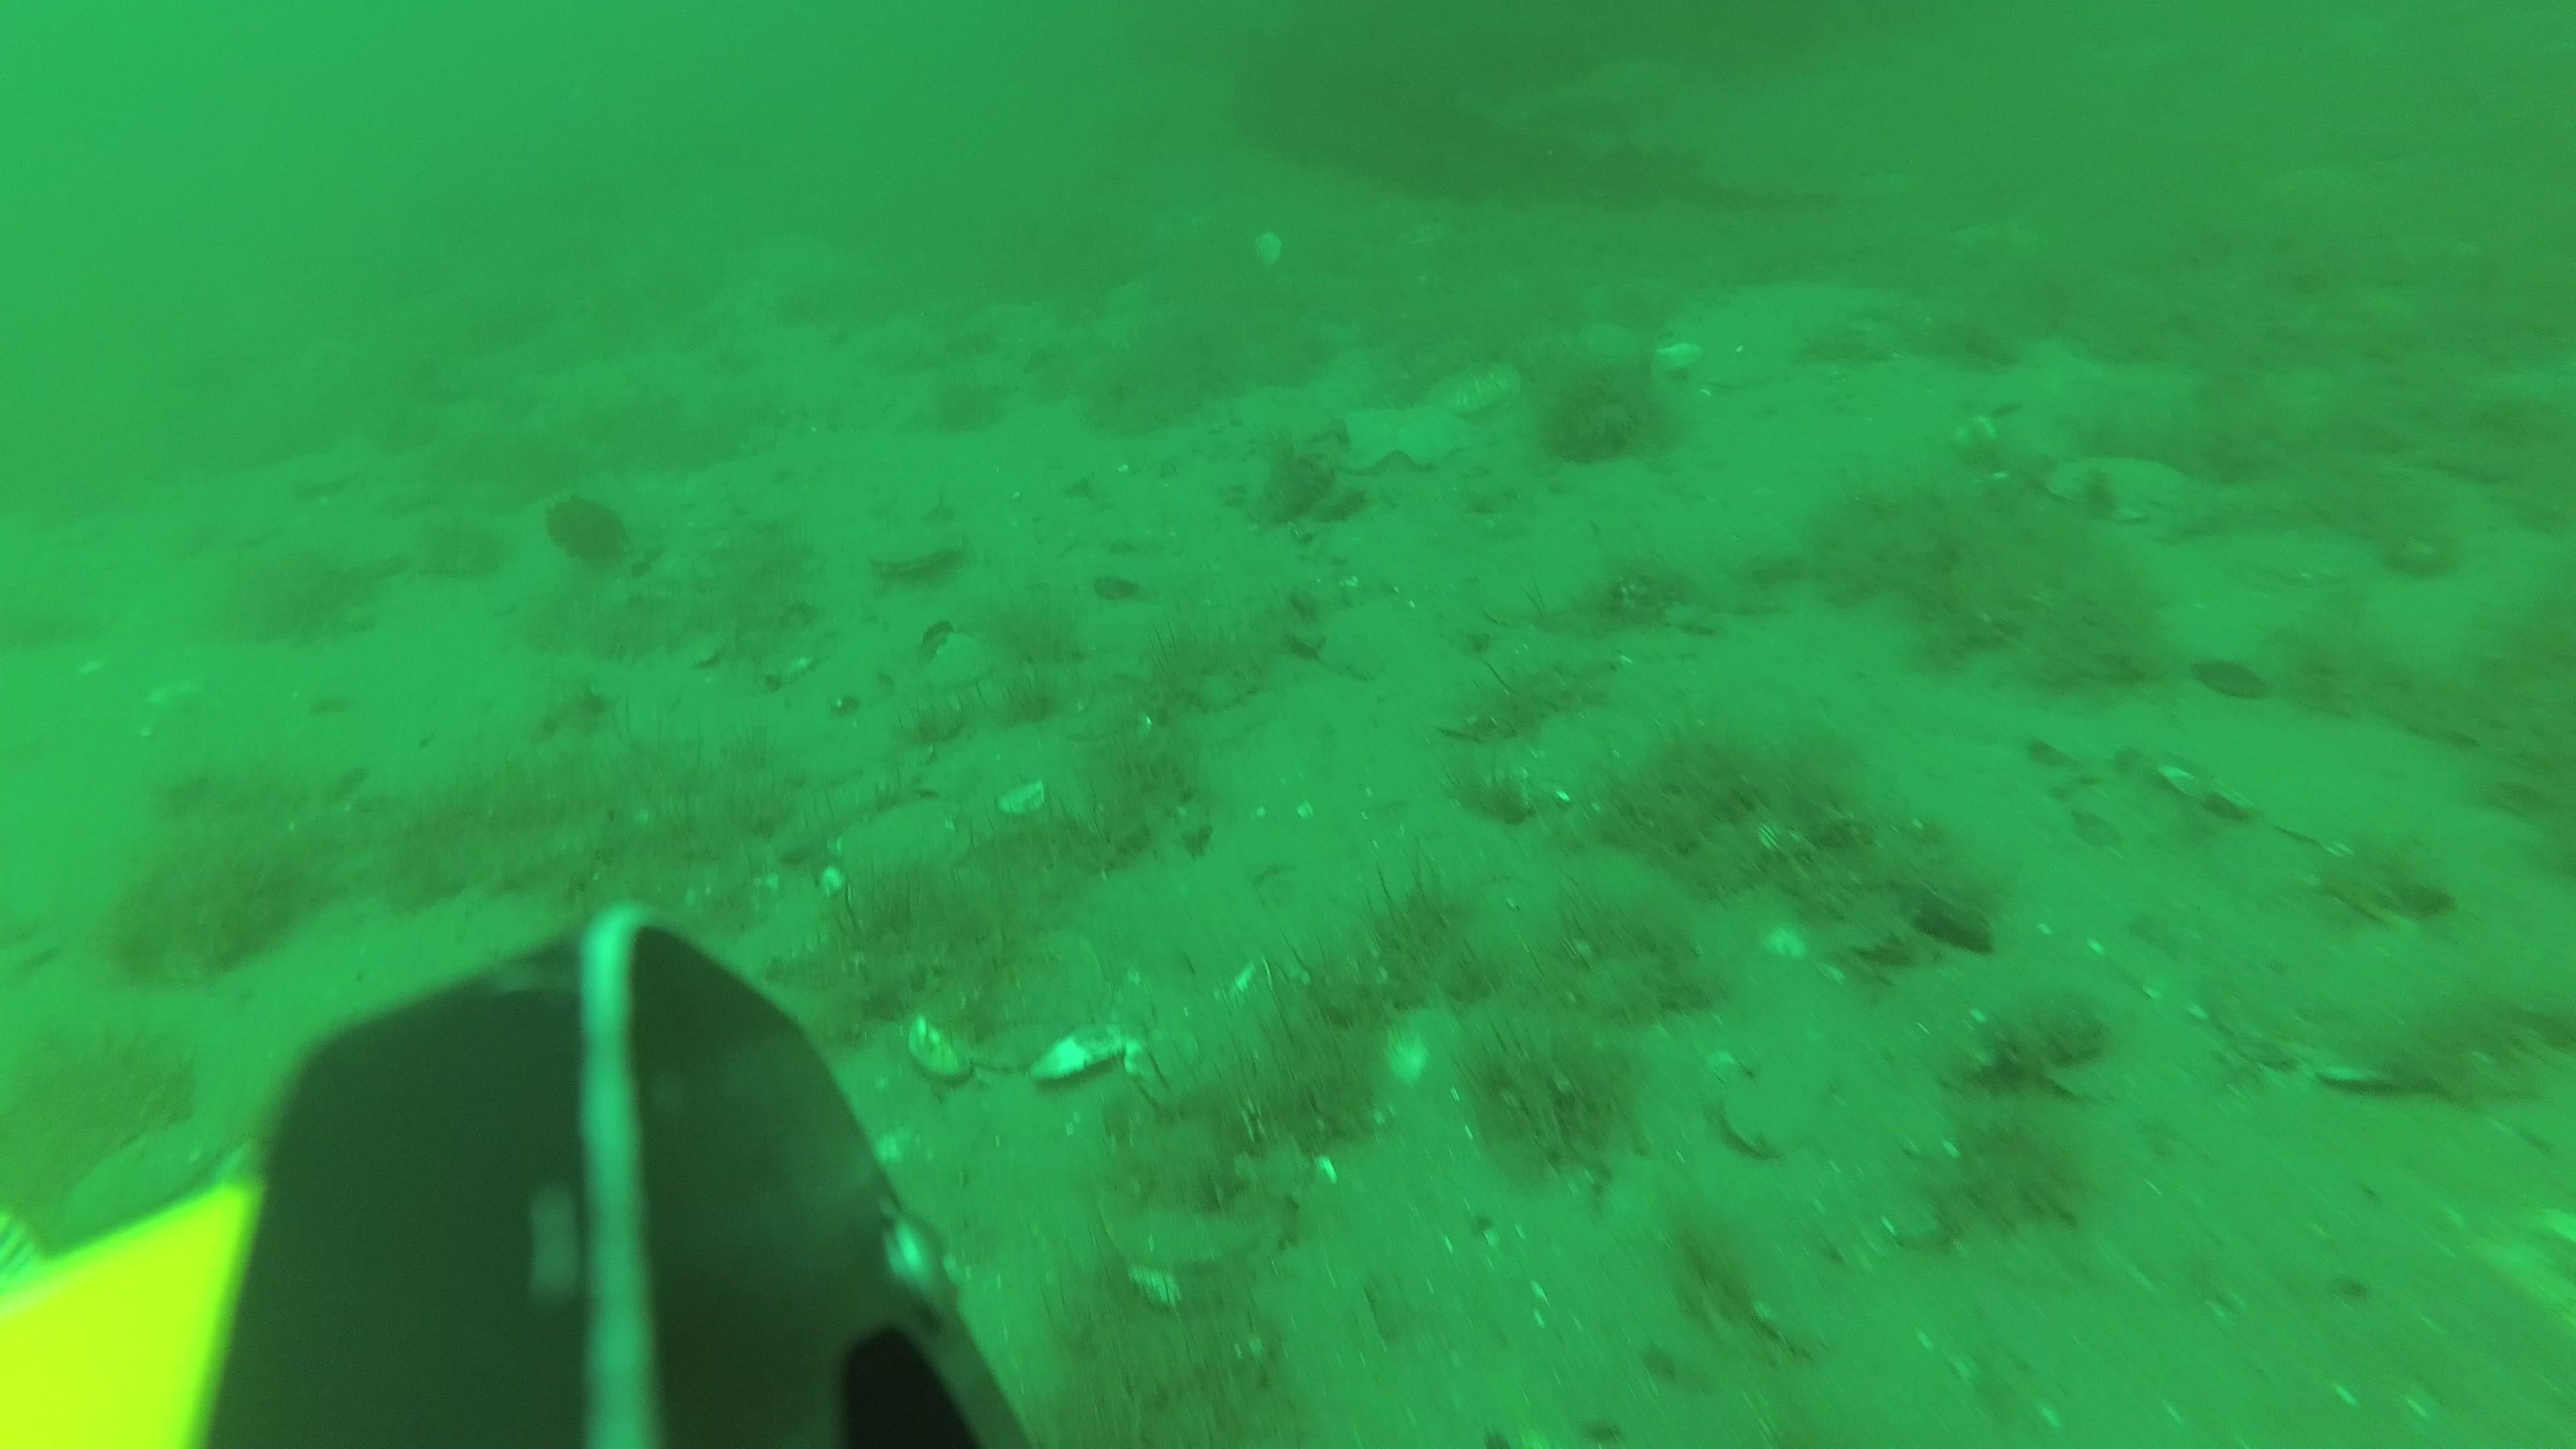scallop: (901, 932, 1113, 1081), (835, 801, 968, 895), (2045, 444, 2196, 518), (879, 518, 968, 577), (1440, 368, 1516, 421), (1253, 226, 1283, 267)
starfish: (1339, 398, 1481, 472)
